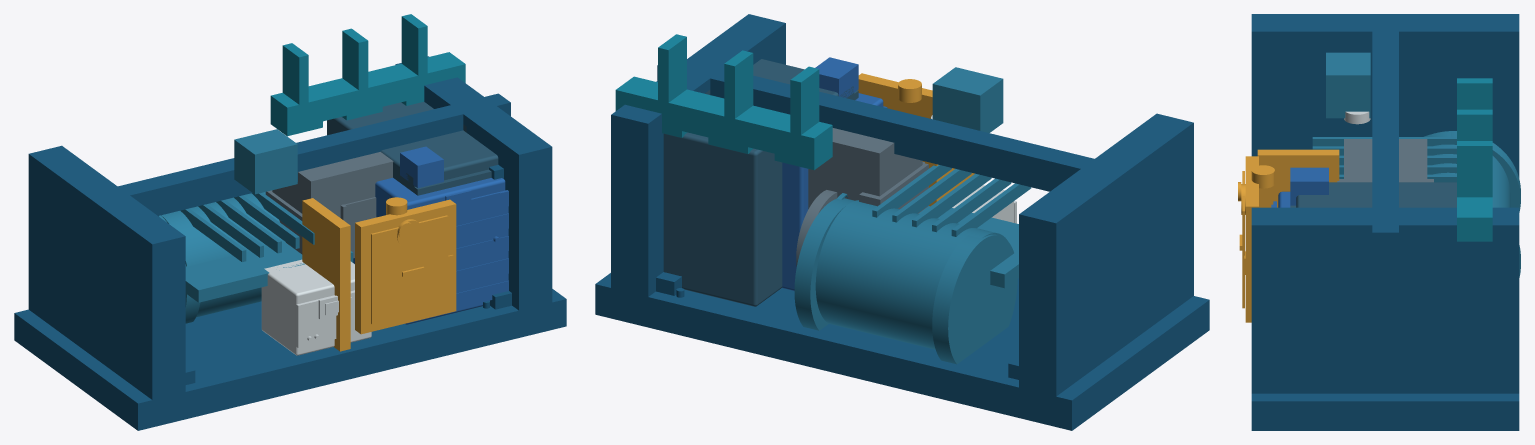
File: regenport.glb
3 views of the same model, side by side, from view 1: azimuth 30°, elevation 25°; view 2: azimuth 150°, elevation 25°; view 3: azimuth 270°, elevation 25° (orthographic). The views are drawn at different scales.
Parts seen in each view (by area): view 1: regenport.load_crane_interface, regenport.service_emergency_access, regenport.motor_generator, regenport.dc_link, regenport.converter_inverter, regenport.controller_sensors, regenport.transmission_brake_path, regenport.storage_buffer; view 2: regenport.load_crane_interface, regenport.motor_generator, regenport.storage_buffer, regenport.dc_link, regenport.transmission_brake_path, regenport.converter_inverter, regenport.service_emergency_access; view 3: regenport.load_crane_interface, regenport.motor_generator, regenport.dc_link, regenport.service_emergency_access, regenport.storage_buffer, regenport.transmission_brake_path, regenport.converter_inverter, regenport.controller_sensors.
Boxes of the visible parts, <box> form: regenport.load_crane_interface: <box>14,56,566,430</box>; regenport.service_emergency_access: <box>302,197,456,351</box>; regenport.motor_generator: <box>158,129,353,323</box>; regenport.dc_link: <box>270,14,465,136</box>; regenport.converter_inverter: <box>353,146,508,324</box>; regenport.controller_sensors: <box>261,259,371,355</box>; regenport.transmission_brake_path: <box>265,152,393,258</box>; regenport.storage_buffer: <box>327,102,498,195</box>; regenport.load_crane_interface: <box>595,14,1209,430</box>; regenport.motor_generator: <box>794,67,1031,364</box>; regenport.storage_buffer: <box>663,59,858,306</box>; regenport.dc_link: <box>615,34,832,170</box>; regenport.transmission_brake_path: <box>796,128,928,266</box>; regenport.converter_inverter: <box>782,57,887,290</box>; regenport.service_emergency_access: <box>857,73,974,206</box>; regenport.load_crane_interface: <box>1251,14,1519,430</box>; regenport.motor_generator: <box>1312,52,1520,277</box>; regenport.dc_link: <box>1457,78,1492,241</box>; regenport.service_emergency_access: <box>1238,149,1339,322</box>; regenport.storage_buffer: <box>1290,182,1456,207</box>; regenport.transmission_brake_path: <box>1337,139,1433,182</box>; regenport.converter_inverter: <box>1271,167,1328,207</box>; regenport.controller_sensors: <box>1344,111,1370,124</box>.
Bounding box in the file's own units: 3600 × 1940 × 1902.
